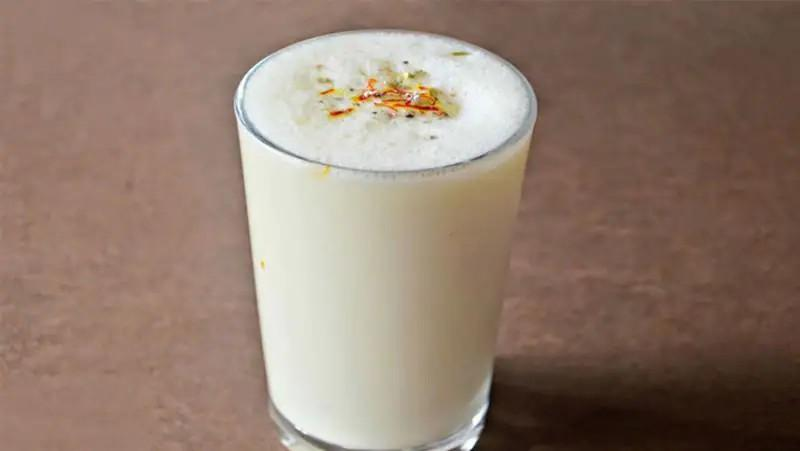Lassi: (236, 30, 531, 451)
